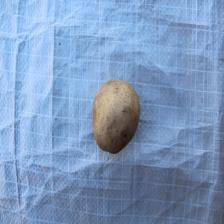Diseased-fungal potato: (90, 76, 142, 156)
